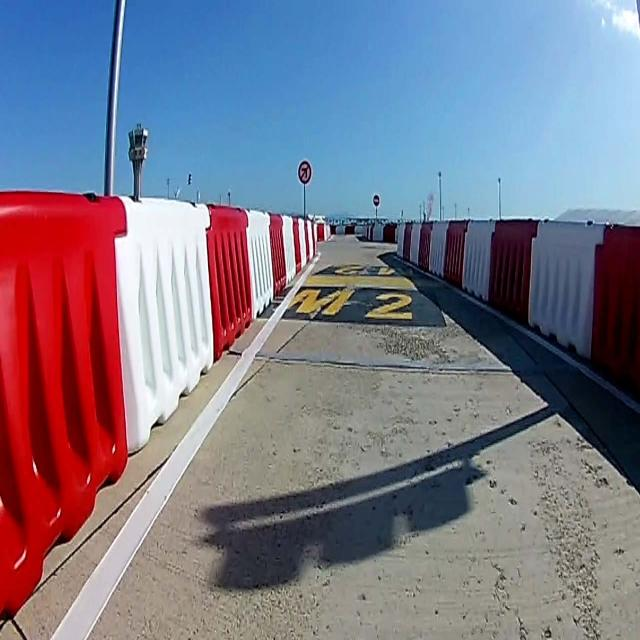girisyok: (372, 195, 380, 207)
soladonulmez: (298, 160, 312, 183)
